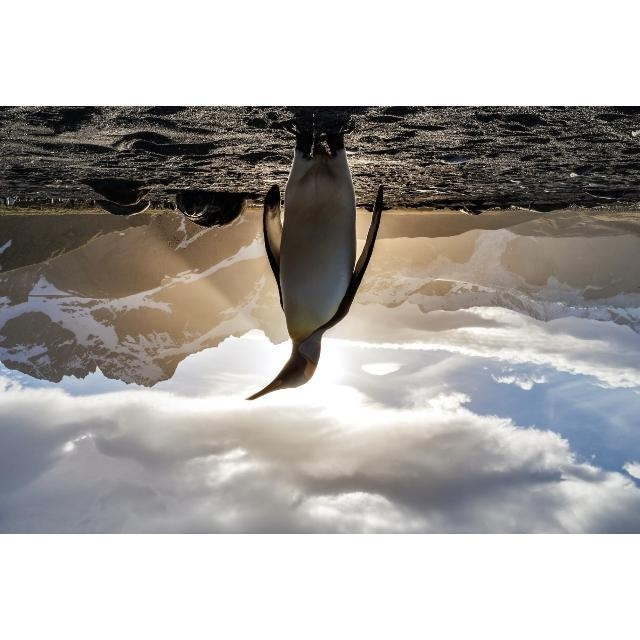penguin: (244, 114, 384, 402)
